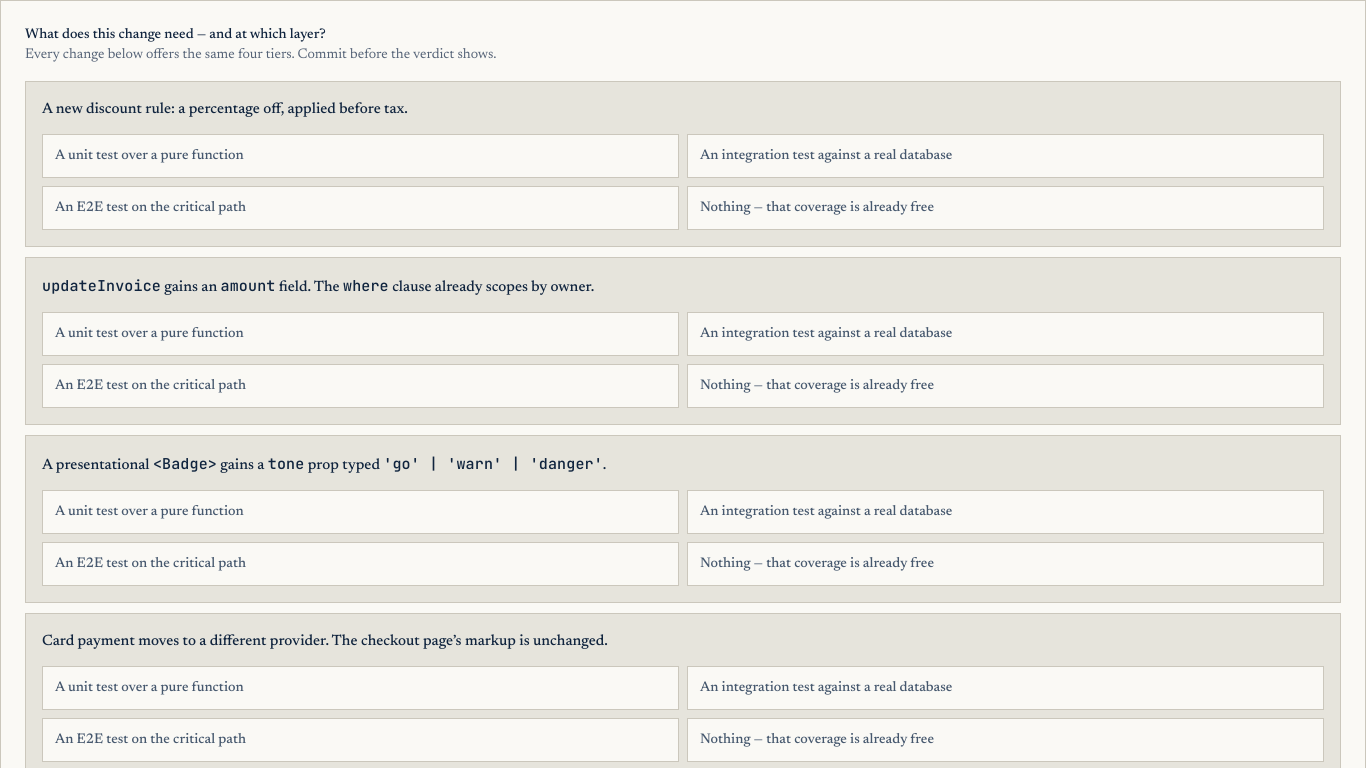
Scenario: a pricing rule scored as a unit test is right
Click the 1st radio button labelled "A unit test over a pure function": [149, 156] box [42,134,679,178]
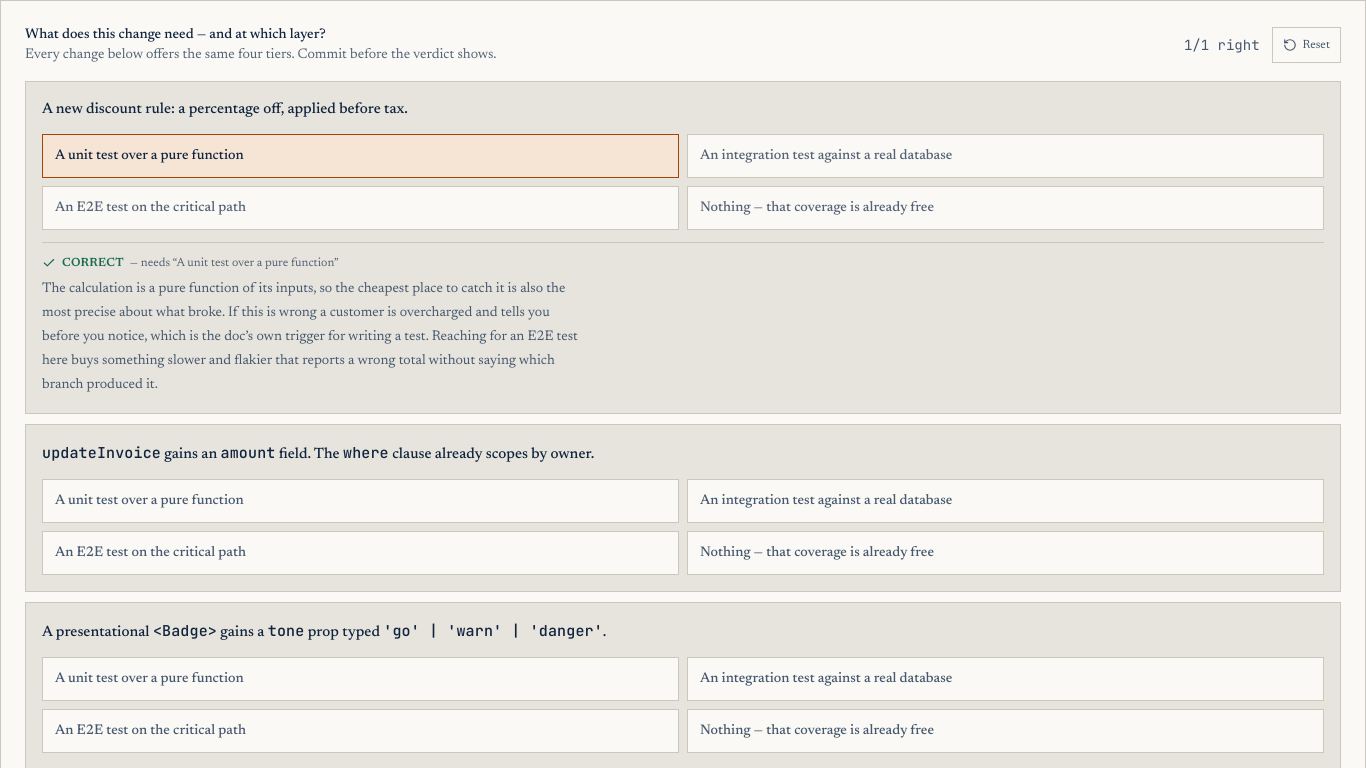
Expected: the text "1/1 right" is shown, [1184,35,1260,55]
